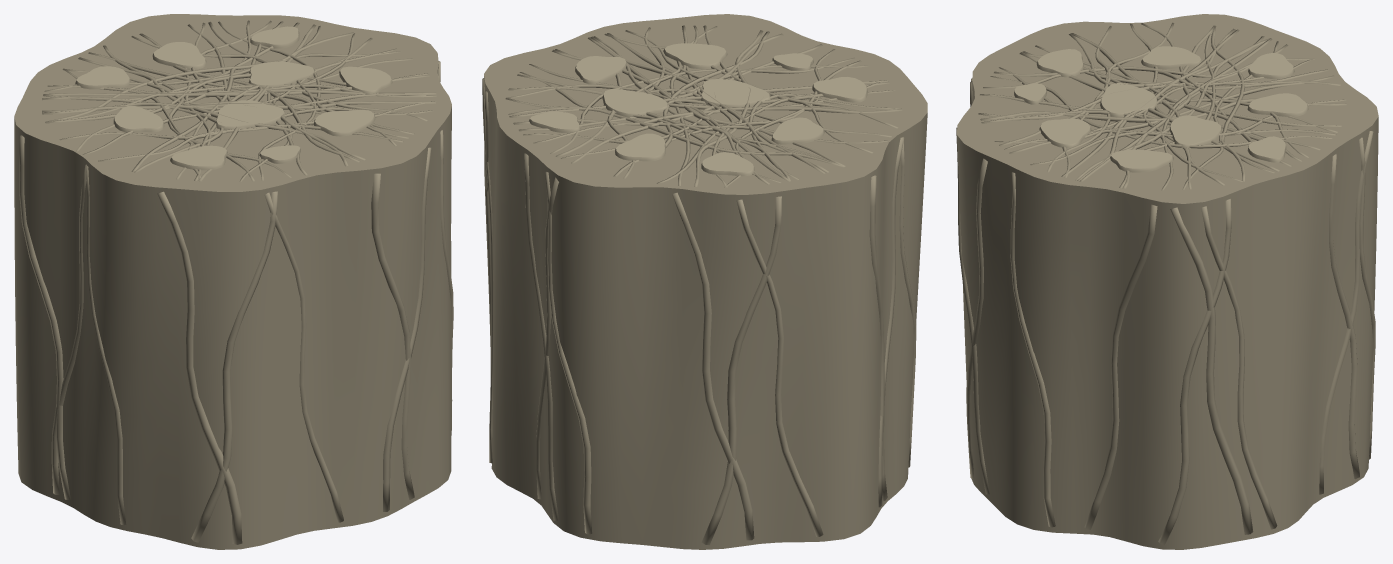
File: tempskya.glb
The picture shows the model from 3 angles, left to right: view 1: azimuth 30°, elevation 25°; view 2: azimuth 150°, elevation 25°; view 3: azimuth 270°, elevation 25°; orthographic projection.
Visible parts, largest first — view 1: dense-root-matrix-of-cut-composite-false-trunk-not-ordinary-, interwoven-unequal-adventitious-root-cables-around-and-acros, uneven-filled-small-stem-islands-inside-root-mat-cut-face; view 2: dense-root-matrix-of-cut-composite-false-trunk-not-ordinary-, interwoven-unequal-adventitious-root-cables-around-and-acros, uneven-filled-small-stem-islands-inside-root-mat-cut-face; view 3: dense-root-matrix-of-cut-composite-false-trunk-not-ordinary-, interwoven-unequal-adventitious-root-cables-around-and-acros, uneven-filled-small-stem-islands-inside-root-mat-cut-face.
Boxes of the visible parts, x1,y1,x2,y2 form: dense-root-matrix-of-cut-composite-false-trunk-not-ordinary-: [14, 14, 451, 549]; interwoven-unequal-adventitious-root-cables-around-and-acros: [19, 20, 453, 544]; uneven-filled-small-stem-islands-inside-root-mat-cut-face: [75, 26, 392, 170]; dense-root-matrix-of-cut-composite-false-trunk-not-ordinary-: [484, 14, 927, 549]; interwoven-unequal-adventitious-root-cables-around-and-acros: [482, 25, 916, 545]; uneven-filled-small-stem-islands-inside-root-mat-cut-face: [529, 43, 867, 176]; dense-root-matrix-of-cut-composite-false-trunk-not-ordinary-: [957, 14, 1378, 549]; interwoven-unequal-adventitious-root-cables-around-and-acros: [956, 22, 1375, 545]; uneven-filled-small-stem-islands-inside-root-mat-cut-face: [1014, 46, 1308, 172].
Size of the model in its own units: 0.38 by 0.3301 by 0.3548.
